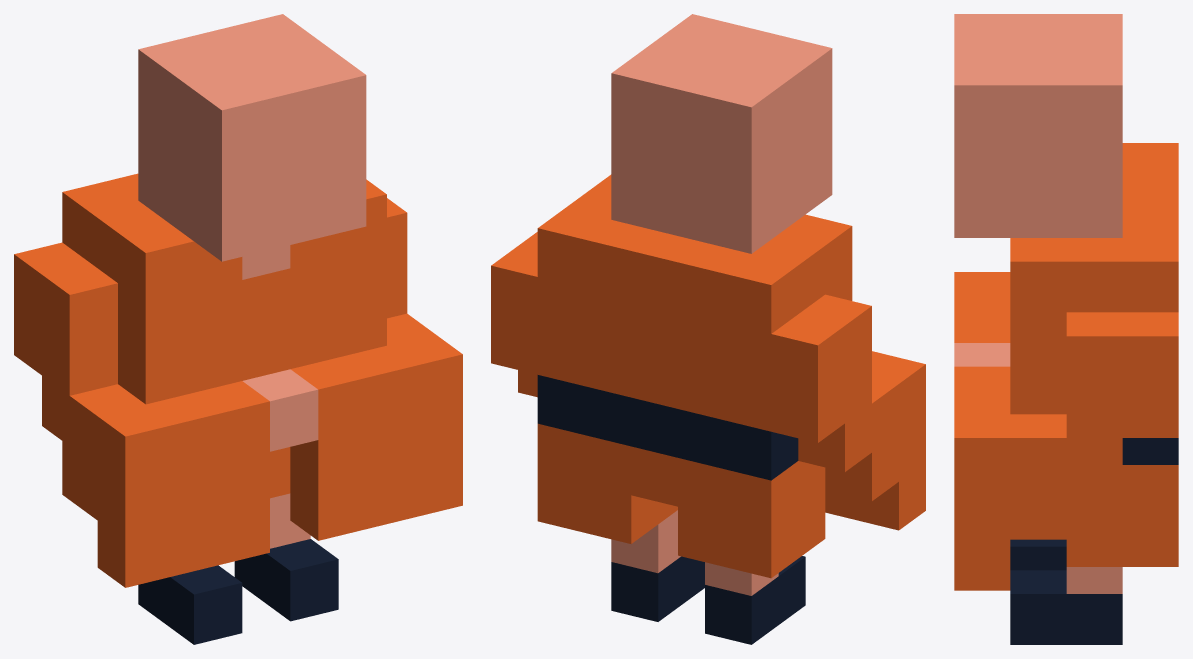
The model's file is monk_idle_1.obj.
The picture shows the model from 3 angles, left to right: view 1: azimuth 30°, elevation 25°; view 2: azimuth 150°, elevation 25°; view 3: azimuth 270°, elevation 25°; orthographic projection. The views are drawn at different scales.
Bounding box in the file's own units: 0.7 × 1.1 × 0.4.
1 material, 1 textured.
